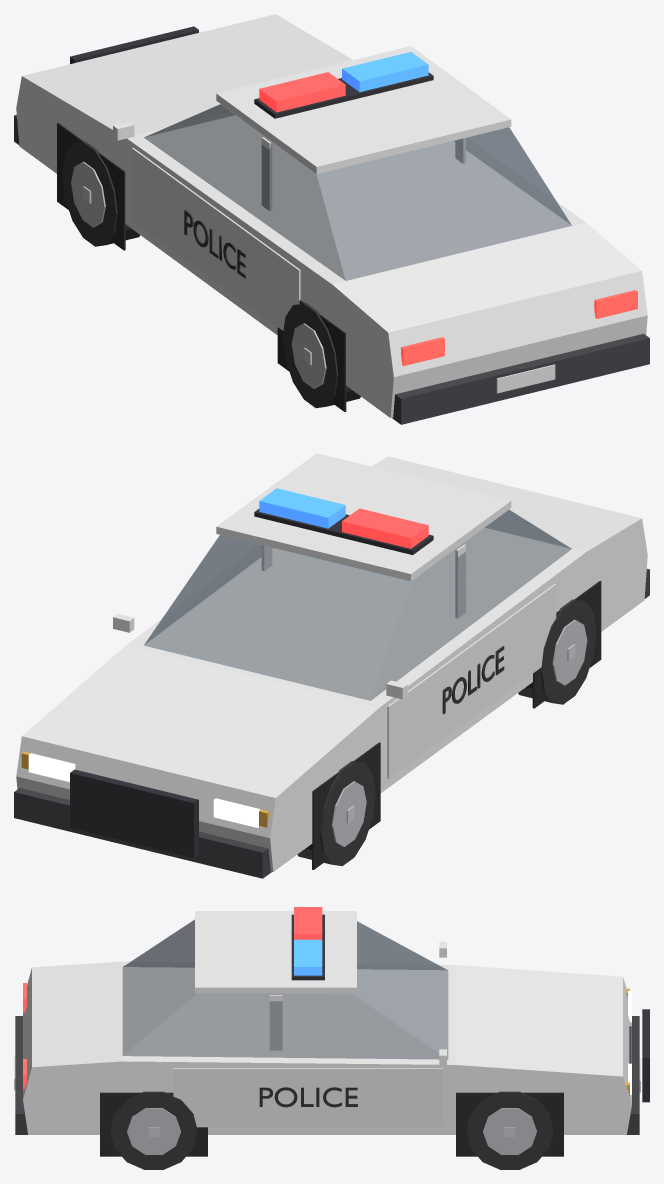
The model's file is police.glb.
3 views of the same model, one above another, from view 1: azimuth 30°, elevation 25°; view 2: azimuth 150°, elevation 25°; view 3: azimuth 270°, elevation 25° (orthographic). The views are drawn at different scales.
Visible parts, largest first — view 1: body, cabin, roof, door_panel-1, bumper_rear, wheel_lf, wheel_lb, lightbar_red, lightbar_blue, arch_lf, arch_lb, lightbar_base (+6 smaller); view 2: body, cabin, roof, door_panel-1, push_bar, bumper_front, wheel_lf, wheel_lb, lightbar_blue, lightbar_red, arch_lf, lightbar_base (+5 smaller); view 3: body, cabin, door_panel1, roof, wheel_rf, wheel_rb, arch_rf, arch_rb, lightbar_blue, bumper_rear, bumper_front, lightbar_red (+4 smaller).
Boxes of the visible parts, left/top/right/bottom form: body: left=16, top=14, right=647, bottom=417; cabin: left=144, top=104, right=571, bottom=280; roof: left=216, top=46, right=511, bottom=173; door_panel-1: left=131, top=147, right=300, bottom=330; bumper_rear: left=392, top=333, right=649, bottom=424; wheel_lf: left=62, top=141, right=140, bottom=246; wheel_lb: left=282, top=303, right=360, bottom=408; lightbar_red: left=259, top=72, right=345, bottom=112; lightbar_blue: left=342, top=52, right=428, bottom=92; arch_lf: left=57, top=123, right=125, bottom=250; arch_lb: left=277, top=300, right=346, bottom=411; lightbar_base: left=254, top=72, right=433, bottom=118; body: left=16, top=456, right=647, bottom=871; cabin: left=144, top=509, right=571, bottom=700; roof: left=216, top=453, right=511, bottom=581; door_panel-1: left=387, top=584, right=556, bottom=778; push_bar: left=70, top=769, right=198, bottom=857; bumper_front: left=14, top=788, right=271, bottom=878; wheel_lf: left=297, top=761, right=375, bottom=866; wheel_lb: left=518, top=599, right=596, bottom=704; lightbar_blue: left=259, top=488, right=345, bottom=528; lightbar_red: left=342, top=508, right=428, bottom=548; arch_lf: left=312, top=742, right=380, bottom=869; lightbar_base: left=254, top=509, right=433, bottom=554; body: left=23, top=961, right=631, bottom=1134; cabin: left=122, top=919, right=448, bottom=1059; door_panel1: left=173, top=1068, right=442, bottom=1127; roof: left=195, top=911, right=356, bottom=993; wheel_rf: left=466, top=1091, right=553, bottom=1169; wheel_rb: left=110, top=1091, right=197, bottom=1169; arch_rf: left=456, top=1092, right=563, bottom=1156; arch_rb: left=100, top=1092, right=207, bottom=1156; lightbar_blue: left=294, top=939, right=322, bottom=975; bumper_rear: left=15, top=1016, right=27, bottom=1134; bumper_front: left=627, top=1016, right=639, bottom=1134; lightbar_red: left=294, top=907, right=322, bottom=939.
Bounding box in the file's own units: 2.1 × 1.56 × 4.95.
